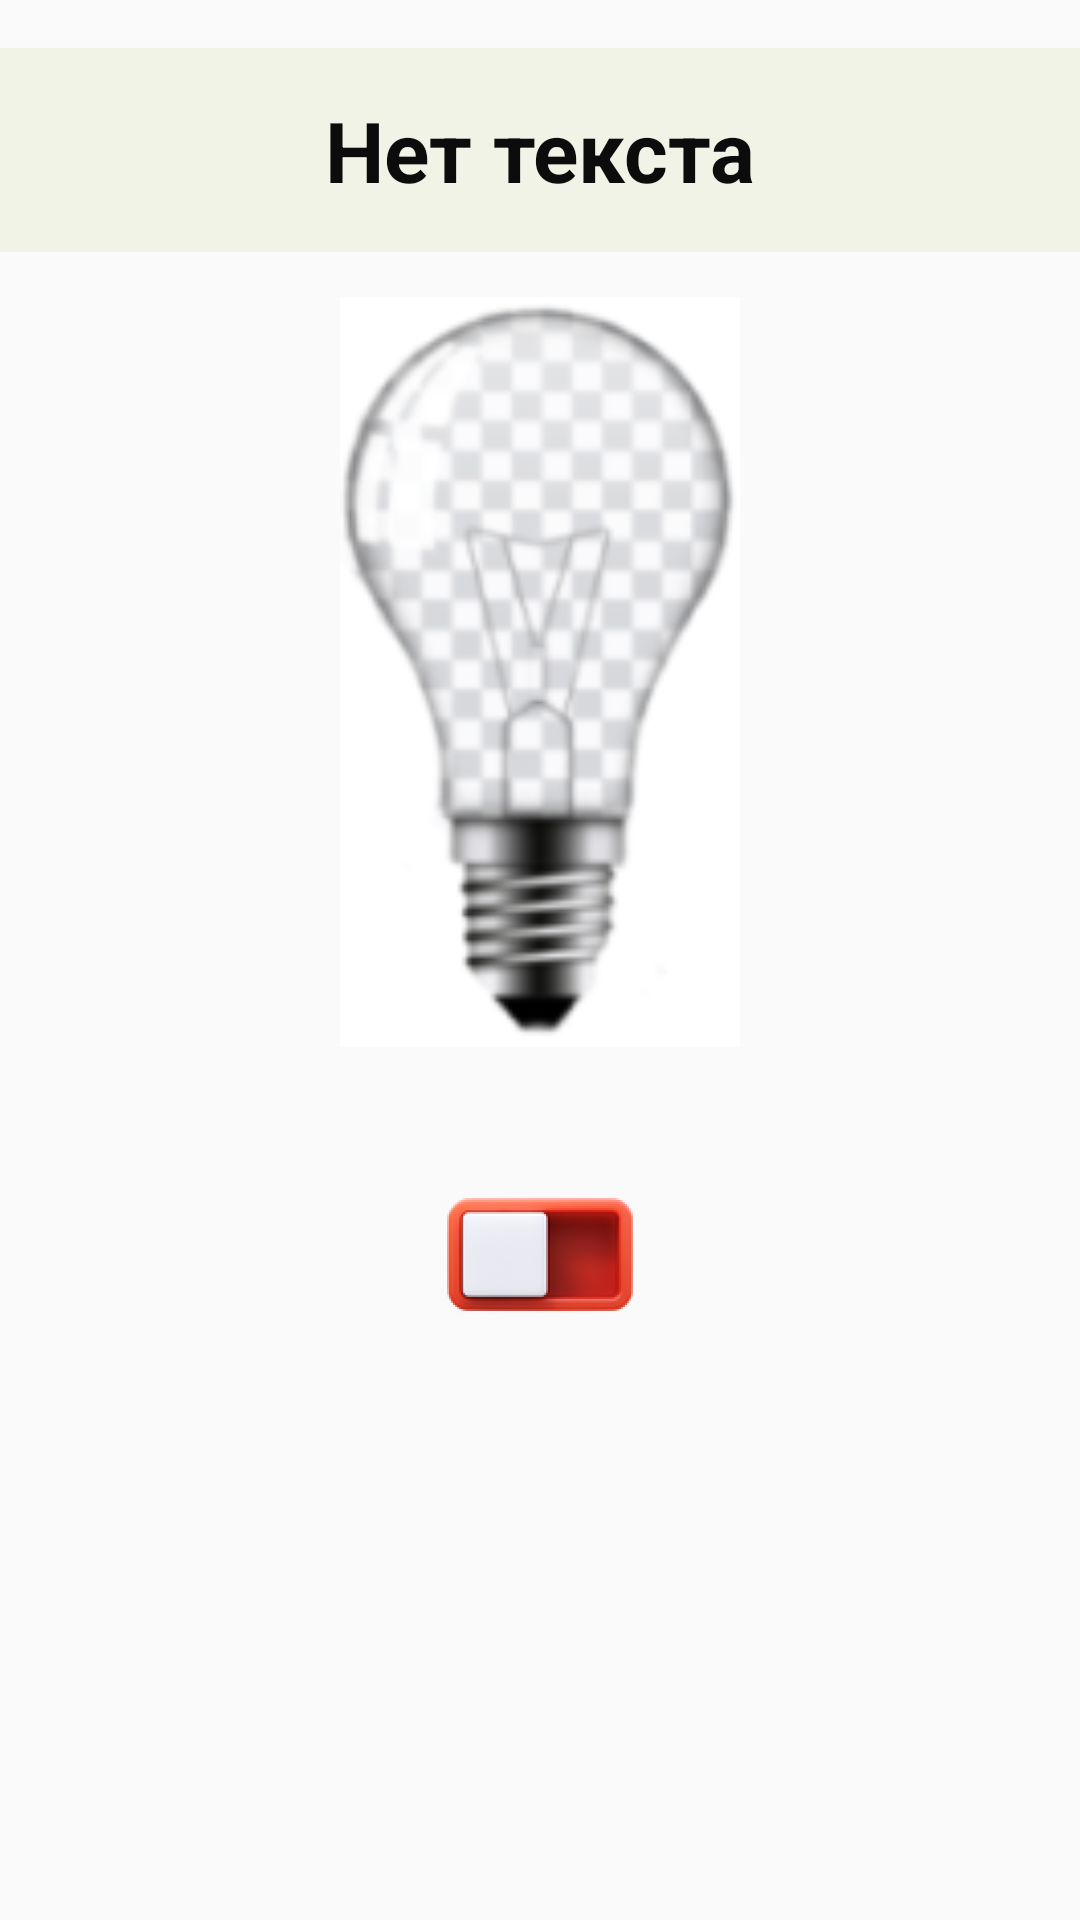

Named icons in this screenshot (1080*1920) and their bounding boxes, [x1,y1,x2,y2]:
ВЫКЛЮЧИТЬ: [447,1198,633,1311]
